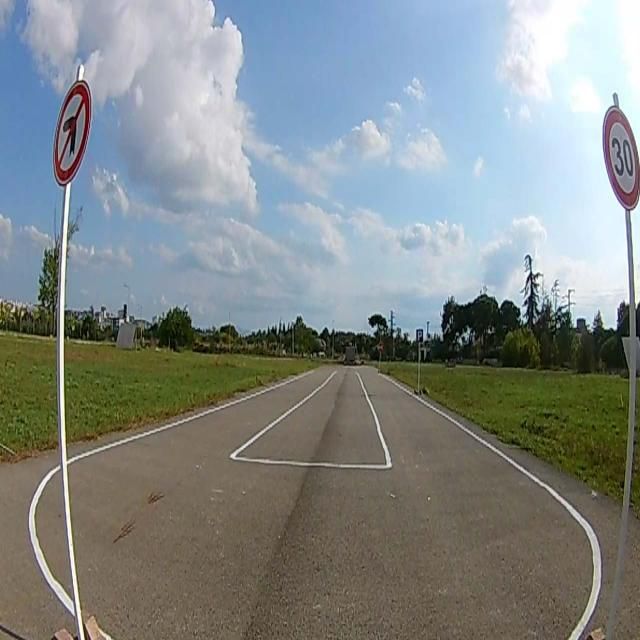30: (602, 105, 640, 206)
soladonulmez: (52, 82, 94, 183)
